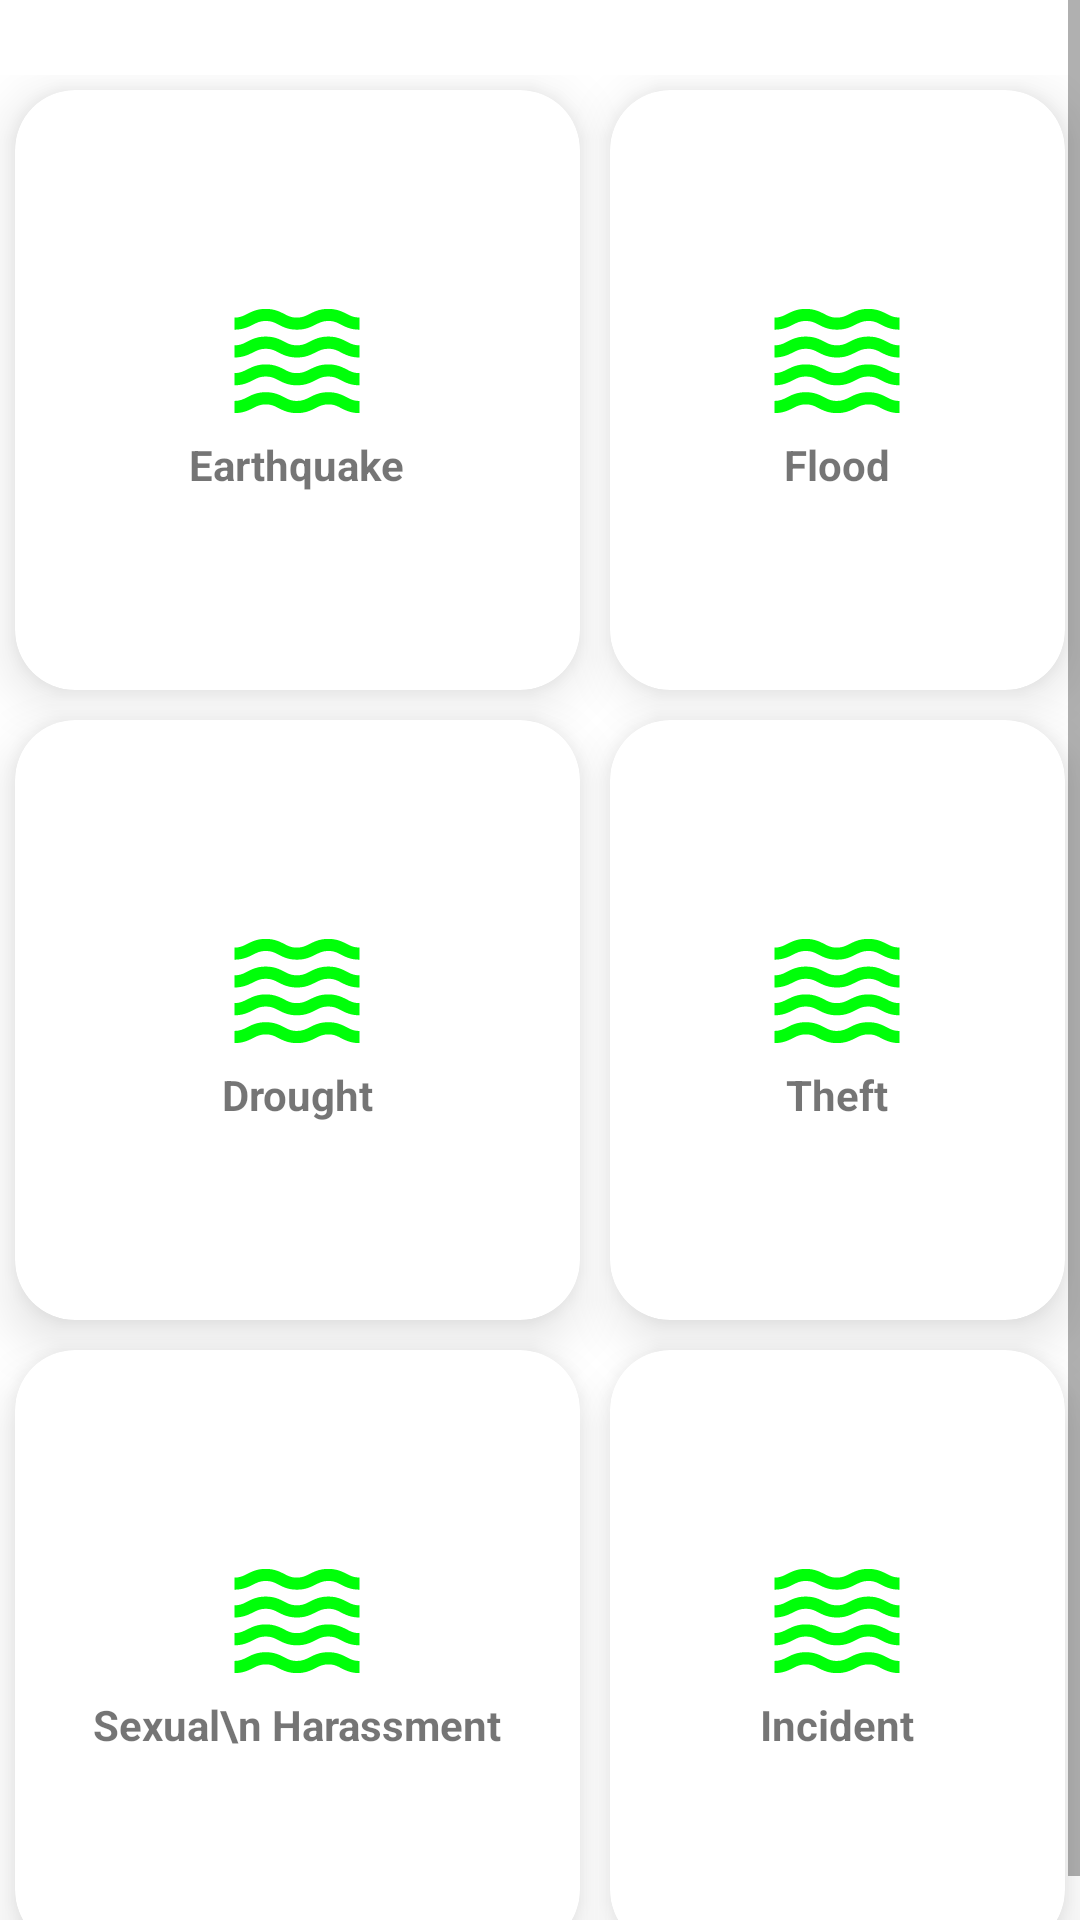

Icons on this 1080w x 1920h Android screen, each with the point to tap as [x,y]:
waves: [297,361], [837,361], [297,991], [837,991], [297,1621], [837,1621]
